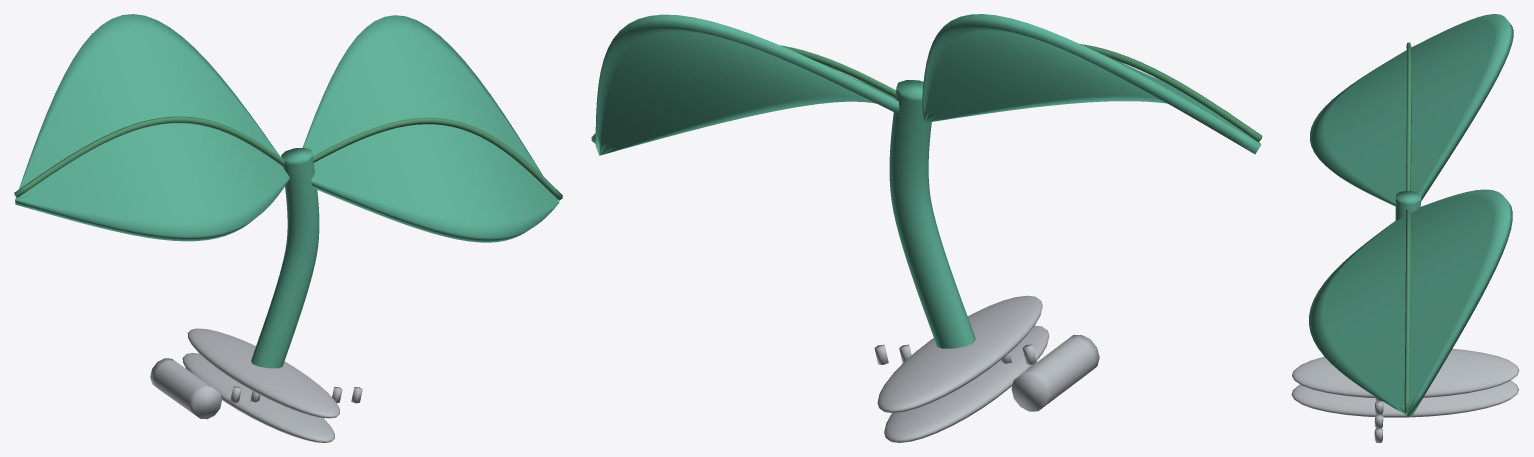
Rendered from Masculine-curly-top-pashmina250-sprout.glb.
3 renders of one model, left to right at view 1: azimuth 30°, elevation 25°; view 2: azimuth 150°, elevation 25°; view 3: azimuth 270°, elevation 25°, orthographic. The views are drawn at different scales.
Parts seen in each view (by area): view 1: 226 extra / Accessory / mint226, 226 extra / Sprout / clip silver235, 226 extra / Sprout / leaf vein235; view 2: 226 extra / Accessory / mint226, 226 extra / Sprout / clip silver235, 226 extra / Sprout / leaf vein235; view 3: 226 extra / Accessory / mint226, 226 extra / Sprout / clip silver235, 226 extra / Sprout / leaf vein235.
Boxes of the visible parts, x1,y1,x2,y2 form: 226 extra / Accessory / mint226: (15, 14, 559, 368); 226 extra / Sprout / clip silver235: (150, 328, 362, 442); 226 extra / Sprout / leaf vein235: (14, 116, 562, 200); 226 extra / Accessory / mint226: (595, 14, 1261, 348); 226 extra / Sprout / clip silver235: (874, 295, 1099, 442); 226 extra / Sprout / leaf vein235: (591, 44, 1262, 143); 226 extra / Accessory / mint226: (1309, 14, 1513, 417); 226 extra / Sprout / clip silver235: (1291, 348, 1519, 442); 226 extra / Sprout / leaf vein235: (1404, 42, 1411, 412).
Bounding box in the file's own units: 0.2644 × 0.1734 × 0.104.
